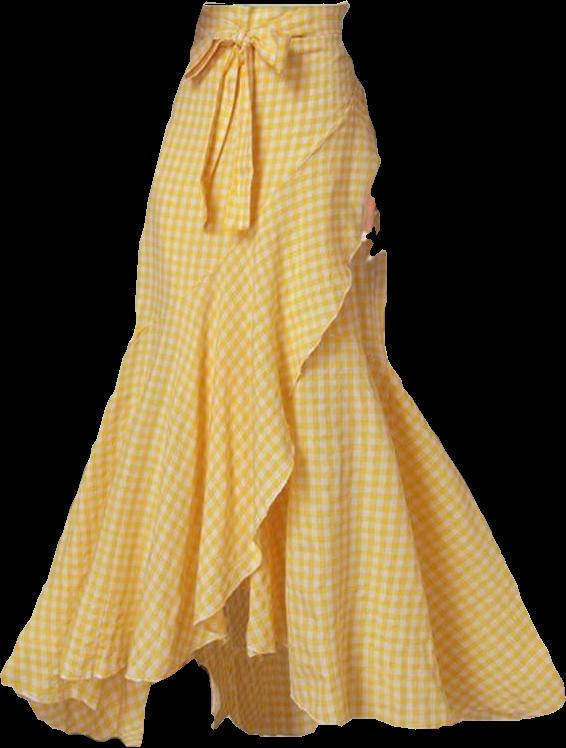Hemline: (0, 155, 386, 713), (209, 634, 565, 733)
Waistline: (127, 80, 364, 342), (201, 0, 349, 9)
